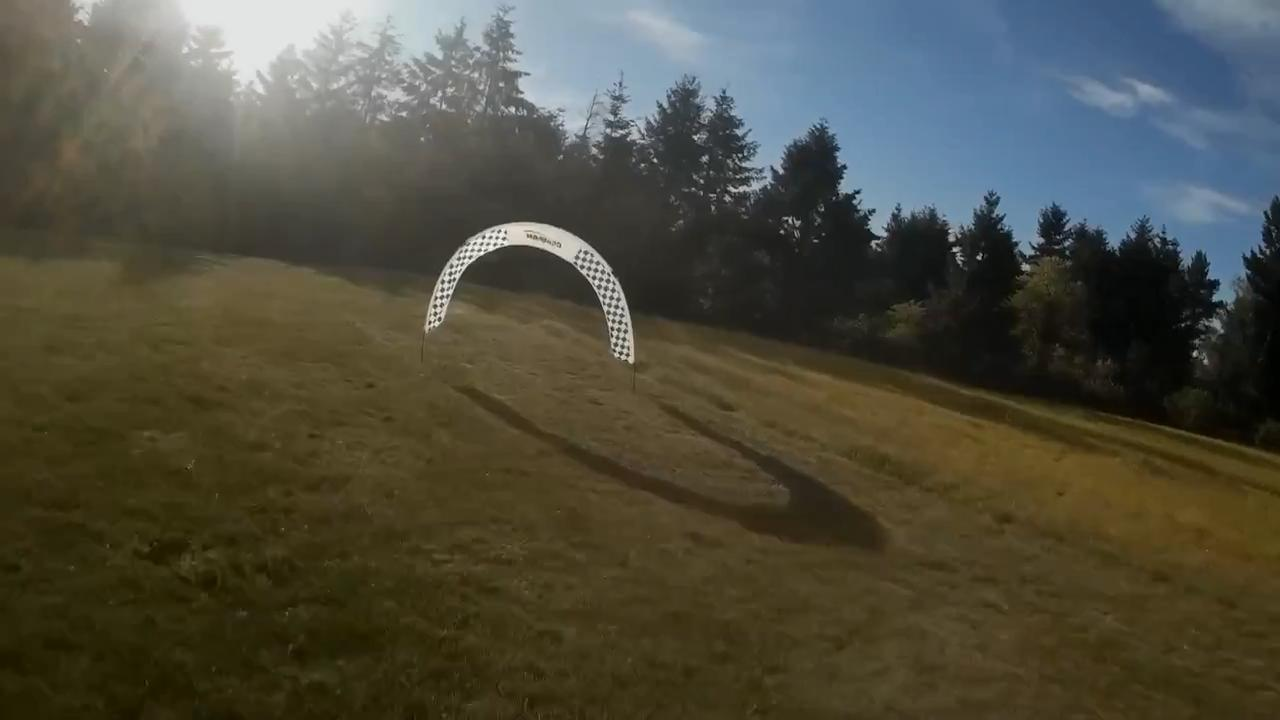gate: (424, 221, 635, 365)
